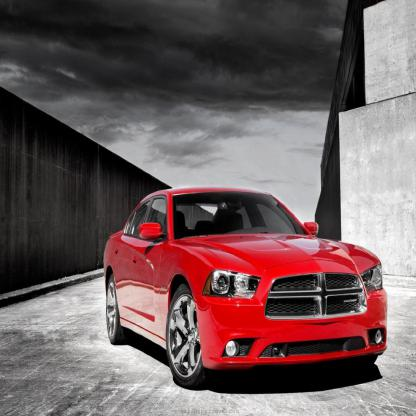Vehicle: (102, 184, 390, 390)
